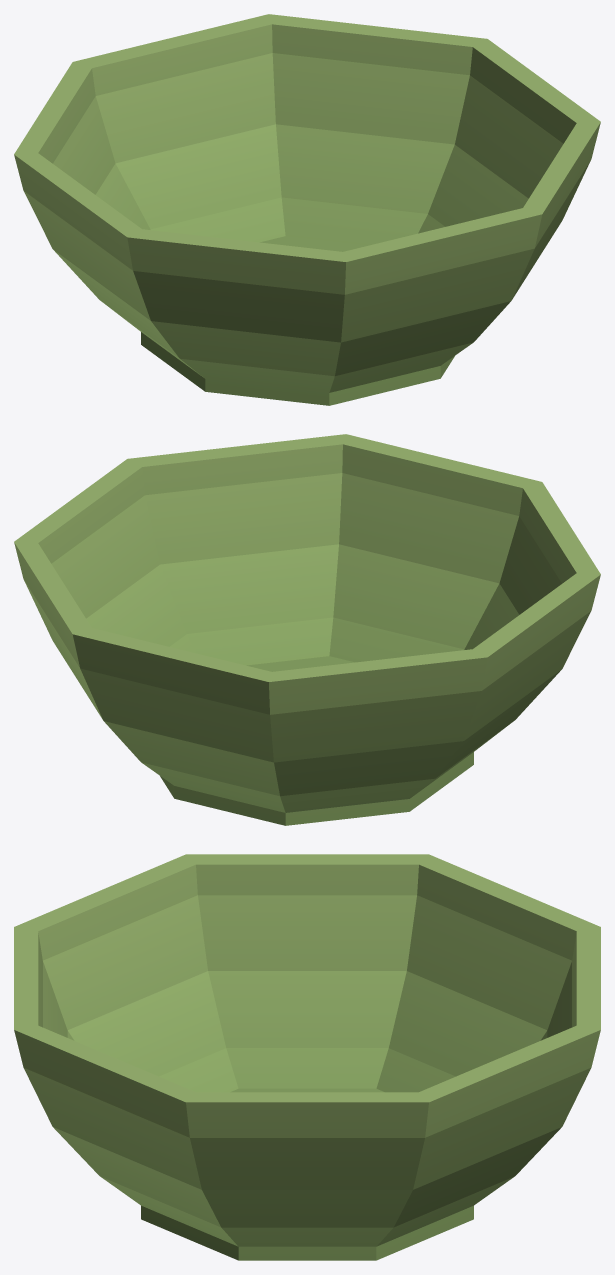
File: Plate5_C4.fbx
3 renders of one model, top to bottom at view 1: azimuth 30°, elevation 25°; view 2: azimuth 150°, elevation 25°; view 3: azimuth 270°, elevation 25°, orthographic. The views are drawn at different scales.
Parts seen in each view (by area): view 1: Plate5_C4; view 2: Plate5_C4; view 3: Plate5_C4.
Boxes of the visible parts, bbox=[...] form: Plate5_C4: bbox=[14, 14, 600, 405]; Plate5_C4: bbox=[14, 434, 600, 825]; Plate5_C4: bbox=[14, 854, 600, 1260].
Bounding box in the file's own units: 23.87 × 9.51 × 23.87.
